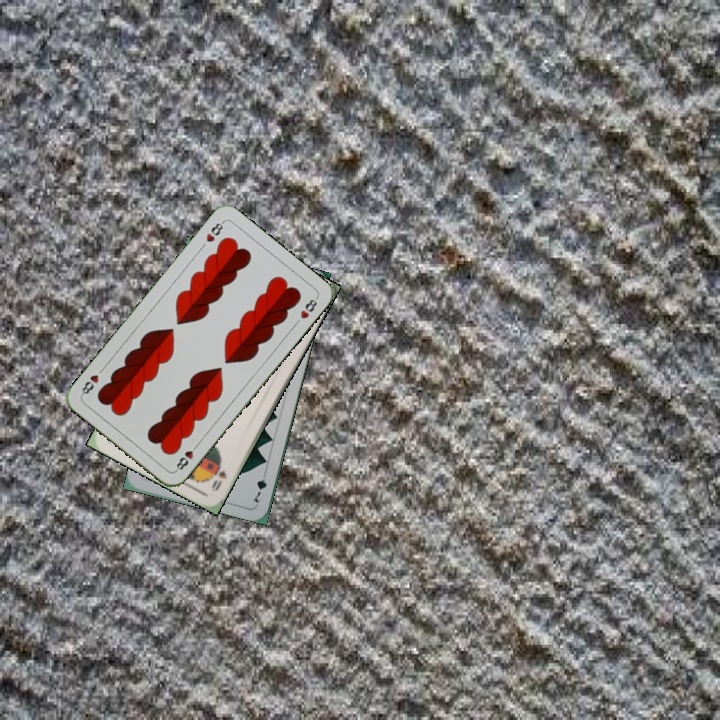G7: (250, 466, 270, 505)
H8: (171, 440, 201, 474), (202, 217, 226, 245)
SO: (207, 466, 230, 494)
